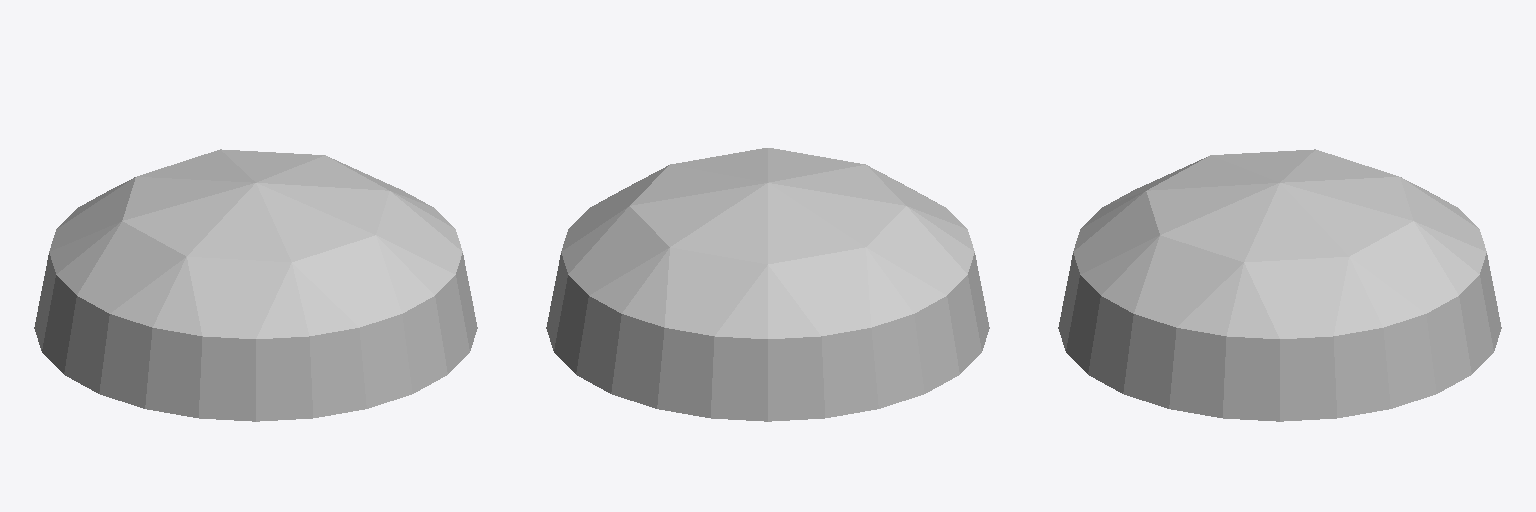
The model's file is Seaside hill 7.obj.
The picture shows the model from 3 angles: view 1: azimuth 30°, elevation 25°; view 2: azimuth 150°, elevation 25°; view 3: azimuth 270°, elevation 25°; orthographic projection.
Parts seen in each view (by area): view 1: skybox; view 2: skybox; view 3: skybox.
Part boxes in pixels (left/top/right/bottom): skybox: left=34, top=149, right=477, bottom=421; skybox: left=546, top=148, right=989, bottom=421; skybox: left=1058, top=149, right=1501, bottom=421.
Bounding box in the file's own units: 100000 × 36442 × 100000.